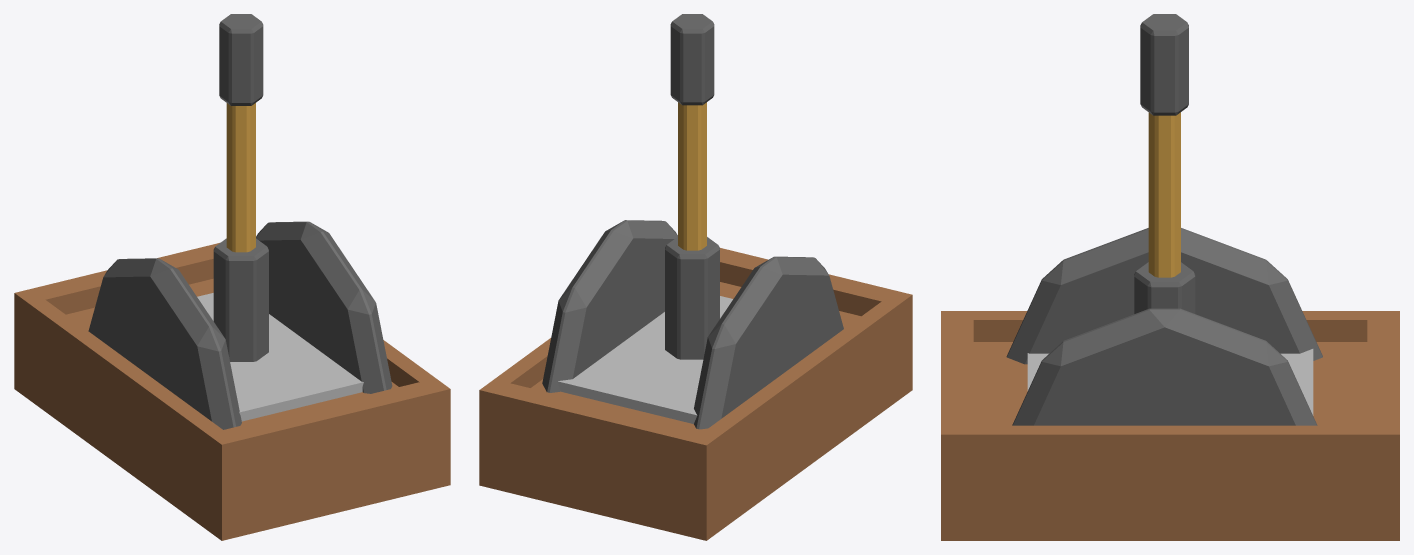
File: Bridge lever.fbx
3 renders of one model, left to right at view 1: azimuth 30°, elevation 25°; view 2: azimuth 150°, elevation 25°; view 3: azimuth 270°, elevation 25°, orthographic. The views are drawn at different scales.
Parts seen in each view (by area): view 1: Circle, Cylinder.004; view 2: Circle, Cylinder.004; view 3: Circle, Cylinder.004.
Part boxes in pixels (bbox=[...]): Circle: bbox=[14, 221, 450, 540]; Cylinder.004: bbox=[213, 14, 268, 361]; Circle: bbox=[479, 220, 912, 540]; Cylinder.004: bbox=[665, 14, 719, 359]; Circle: bbox=[941, 228, 1399, 540]; Cylinder.004: bbox=[1134, 14, 1195, 313].
Size of the model in its own units: 130 by 226 by 204.
